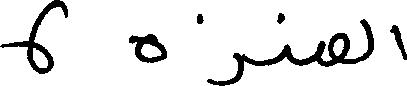X: (0, 0, 65, 78), (132, 29, 164, 67), (209, 48, 241, 85), (319, 28, 346, 71), (395, 20, 406, 64), (362, 14, 371, 65), (283, 9, 288, 64)
